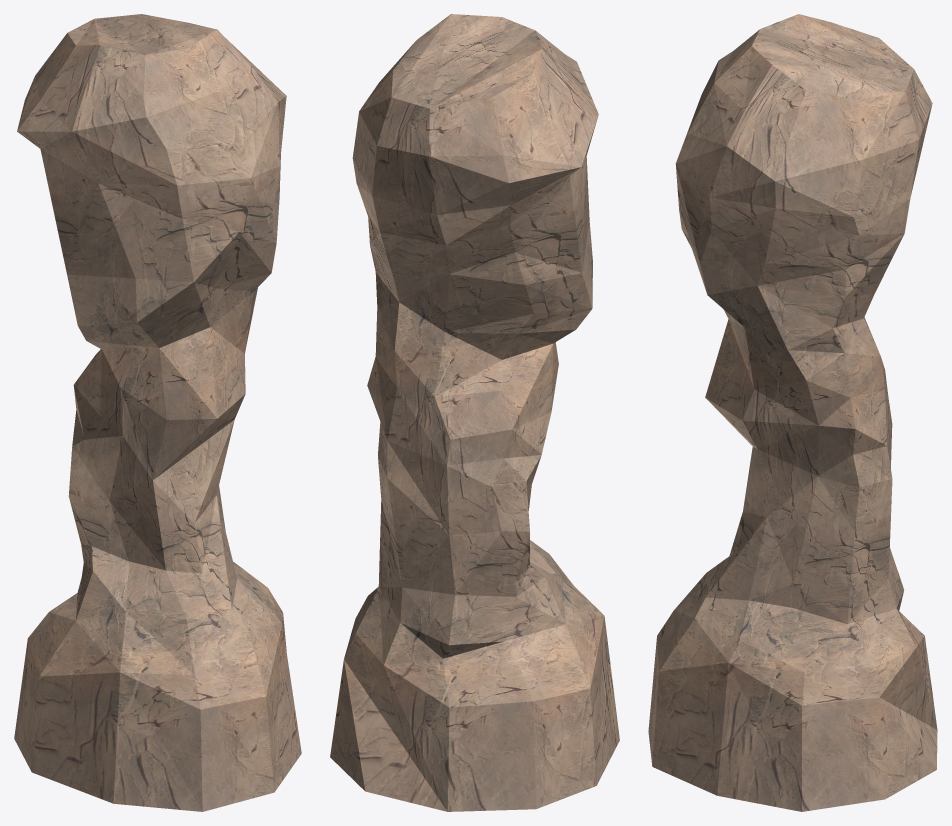
The model's file is rock_tatt_spire_smooth_l0.fbx.
3 renders of one model, left to right at view 1: azimuth 30°, elevation 25°; view 2: azimuth 150°, elevation 25°; view 3: azimuth 270°, elevation 25°, orthographic.
Parts seen in each view (by area): view 1: mesh_node; view 2: mesh_node; view 3: mesh_node.
Boxes of the visible parts, <box> form: mesh_node: <box>14,14,301,811</box>; mesh_node: <box>330,14,619,811</box>; mesh_node: <box>648,14,937,811</box>.
Bounding box in the file's own units: 25.02 × 67.13 × 24.95.
